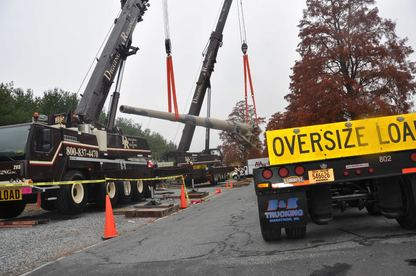truck: (0, 0, 161, 218), (261, 96, 416, 225), (156, 0, 231, 187)
